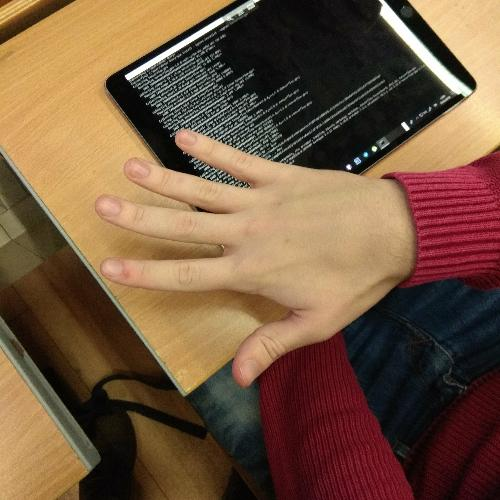paper: (89, 118, 423, 394)
